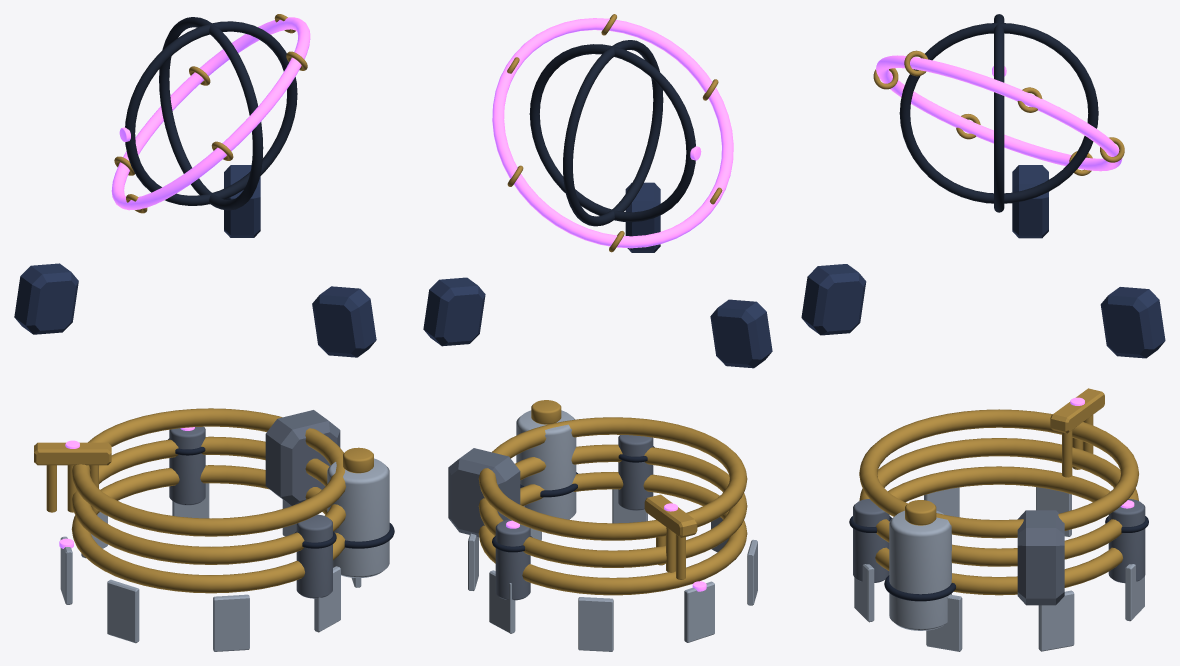
The model's file is tower_singularity_rate_s9.glb.
The picture shows the model from 3 angles, left to right: view 1: azimuth 30°, elevation 25°; view 2: azimuth 150°, elevation 25°; view 3: azimuth 270°, elevation 25°; orthographic projection. The views are drawn at different scales.
Parts seen in each view (by area): view 1: singularity_stem_coil2, singularity_stem_coil1, singularity_stem_coil0, singularity_halo_b_ring, singularity_coolant_tank, singularity_core_cage_b, singularity_stem_junction, singularity_core_cage_c, singularity_regulator1, singularity_regulator0, singularity_stem_cap4.363323129985824, singularity_stem_cap1.9198621771937625 (+8 smaller); view 2: singularity_stem_coil2, singularity_halo_b_ring, singularity_stem_coil1, singularity_stem_coil0, singularity_core_cage_b, singularity_core_cage_c, singularity_coolant_tank, singularity_stem_junction, singularity_regulator0, singularity_regulator2, singularity_stem_cap1.9198621771937625, singularity_stem_cap4.363323129985824 (+9 smaller); view 3: singularity_stem_coil2, singularity_stem_coil1, singularity_stem_coil0, singularity_coolant_tank, singularity_halo_b_ring, singularity_core_cage_c, singularity_stem_junction, singularity_regulator1, singularity_regulator2, singularity_regulator0, singularity_stem_cap4.363323129985824, singularity_stem_cap1.9198621771937625 (+10 smaller).
Boxes of the visible parts, left/top/right/bottom form: singularity_stem_coil2: left=71, top=408, right=345, bottom=536; singularity_stem_coil1: left=71, top=436, right=345, bottom=564; singularity_stem_coil0: left=71, top=465, right=344, bottom=593; singularity_halo_b_ring: left=111, top=17, right=310, bottom=210; singularity_coolant_tank: left=327, top=458, right=389, bottom=577; singularity_core_cage_b: left=125, top=21, right=297, bottom=205; singularity_stem_junction: left=265, top=410, right=340, bottom=505; singularity_core_cage_c: left=159, top=17, right=263, bottom=210; singularity_regulator1: left=312, top=286, right=376, bottom=357; singularity_regulator0: left=14, top=263, right=78, bottom=334; singularity_stem_cap4.363323129985824: left=296, top=514, right=332, bottom=598; singularity_stem_cap1.9198621771937625: left=169, top=426, right=205, bottom=505; singularity_stem_coil2: left=478, top=417, right=747, bottom=540; singularity_halo_b_ring: left=492, top=18, right=733, bottom=248; singularity_stem_coil1: left=478, top=444, right=747, bottom=567; singularity_stem_coil0: left=478, top=472, right=747, bottom=595; singularity_core_cage_b: left=529, top=44, right=695, bottom=222; singularity_core_cage_c: left=563, top=40, right=663, bottom=226; singularity_coolant_tank: left=516, top=410, right=576, bottom=519; singularity_stem_junction: left=448, top=448, right=520, bottom=536; singularity_regulator0: left=710, top=299, right=772, bottom=368; singularity_regulator2: left=423, top=277, right=485, bottom=346; singularity_stem_cap1.9198621771937625: left=495, top=519, right=530, bottom=600; singularity_stem_cap4.363323129985824: left=618, top=435, right=653, bottom=510; singularity_stem_coil2: left=859, top=409, right=1138, bottom=538; singularity_stem_coil1: left=859, top=438, right=1138, bottom=566; singularity_stem_coil0: left=875, top=466, right=1122, bottom=595; singularity_coolant_tank: left=889, top=510, right=951, bottom=630; singularity_halo_b_ring: left=876, top=55, right=1122, bottom=171; singularity_core_cage_c: left=899, top=23, right=1098, bottom=203; singularity_stem_junction: left=1017, top=510, right=1064, bottom=605; singularity_regulator1: left=801, top=264, right=866, bottom=335; singularity_regulator2: left=1100, top=287, right=1165, bottom=358; singularity_regulator0: left=1012, top=165, right=1048, bottom=238; singularity_stem_cap4.363323129985824: left=853, top=499, right=889, bottom=582; singularity_stem_cap1.9198621771937625: left=1108, top=499, right=1145, bottom=583.
Bounding box in the file's own units: 1.41 × 2.39 × 1.39.
